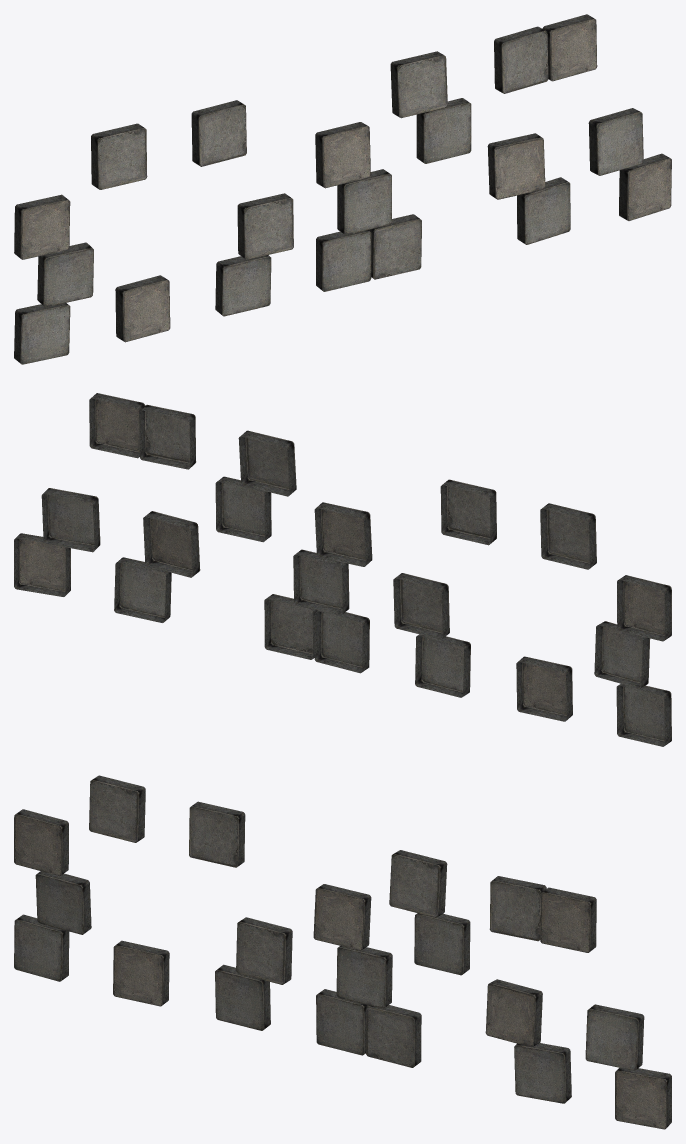
Rendered from hd_dec_UNI_003_PavingDirected_horizontal_03.glb.
3 renders of one model, top to bottom at view 1: azimuth 30°, elevation 25°; view 2: azimuth 150°, elevation 25°; view 3: azimuth 330°, elevation 25°, orthographic.
Visible parts, largest first — view 1: set_0_group_0; view 2: set_0_group_0; view 3: set_0_group_0.
Part boxes in pixels (<box>): set_0_group_0: <box>14,14,671,364</box>; set_0_group_0: <box>14,393,671,746</box>; set_0_group_0: <box>14,775,671,1129</box>.
Size of the model in its own units: 6.5 by 1.99 by 0.201.
Materials: 1 (1 with a texture image).
